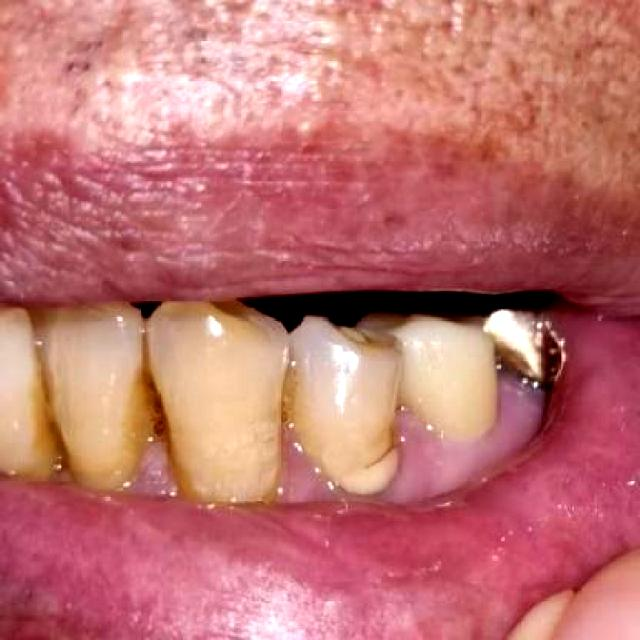Plaque: (131, 440, 174, 496), (357, 438, 398, 469)
